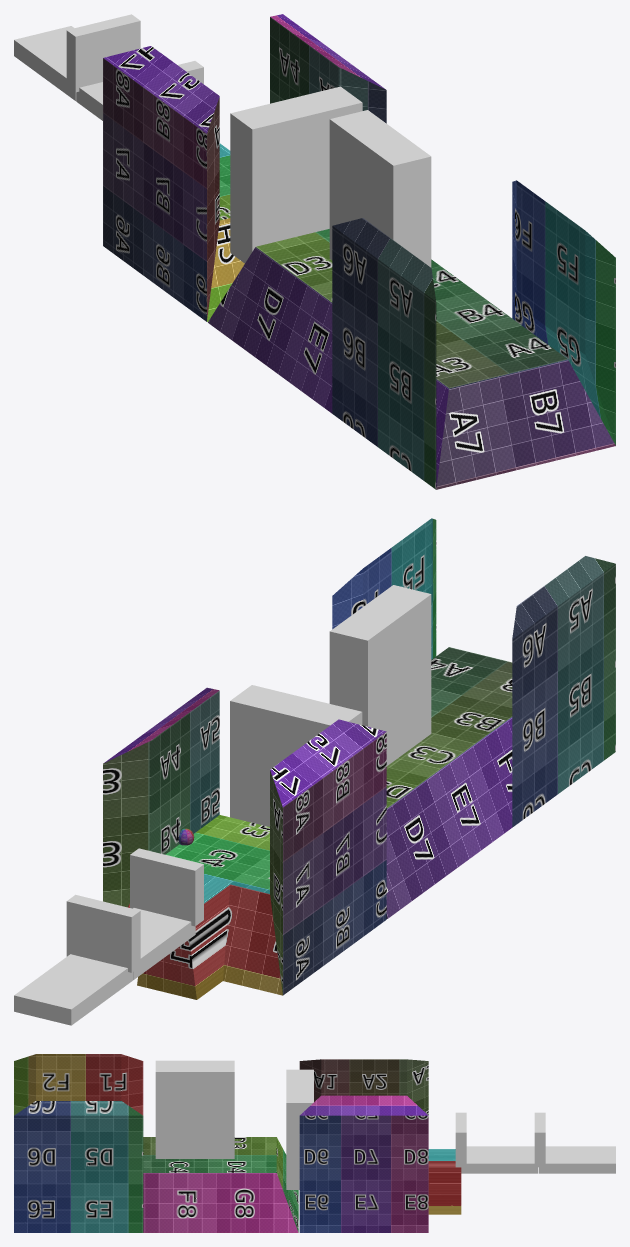
Rendered from example.glb.
The picture shows the model from 3 angles, top to bottom: view 1: azimuth 30°, elevation 25°; view 2: azimuth 150°, elevation 25°; view 3: azimuth 270°, elevation 25°; orthographic projection. The views are drawn at different scales.
Visible parts, largest first — view 1: Plane2 -col, Plane -col, pillar -col, pillar2 -col, door2 -door, Cube2 -col, Cube -col; view 2: Plane -col, Plane2 -col, pillar2 -col, pillar -col, Cube2 -col, door2 -door, door -door, Cube -col; view 3: Plane2 -col, Plane -col, pillar2 -col, pillar -col, Cube2 -col, Cube -col, door -door, door2 -door.
Boxes of the visible parts, box(x1,y1,x2,y2) form: Plane2 -col: box(208, 180, 615, 489); Plane -col: box(103, 14, 386, 321); pillar -col: box(230, 86, 362, 263); pillar2 -col: box(329, 110, 431, 267); door2 -door: box(66, 14, 140, 92); Cube2 -col: box(14, 26, 76, 100); Cube -col: box(76, 82, 102, 120); Plane -col: box(103, 687, 386, 999); Plane2 -col: box(332, 518, 615, 918); pillar2 -col: box(329, 585, 431, 765); pillar -col: box(230, 685, 362, 826); Cube2 -col: box(14, 954, 133, 1025); door2 -door: box(66, 894, 140, 972); door -door: box(130, 848, 203, 926); Cube -col: box(133, 908, 195, 979); Plane2 -col: box(14, 1054, 298, 1232); Plane -col: box(299, 1059, 461, 1232); pillar2 -col: box(155, 1060, 234, 1158); pillar -col: box(286, 1069, 313, 1189); Cube2 -col: box(539, 1146, 615, 1173); Cube -col: box(461, 1146, 538, 1173); door -door: box(455, 1112, 466, 1167); door2 -door: box(534, 1112, 545, 1167).
Size of what is drawn, in the model's own units: 23.17 by 27.54 by 108.
1 material, 1 textured.
